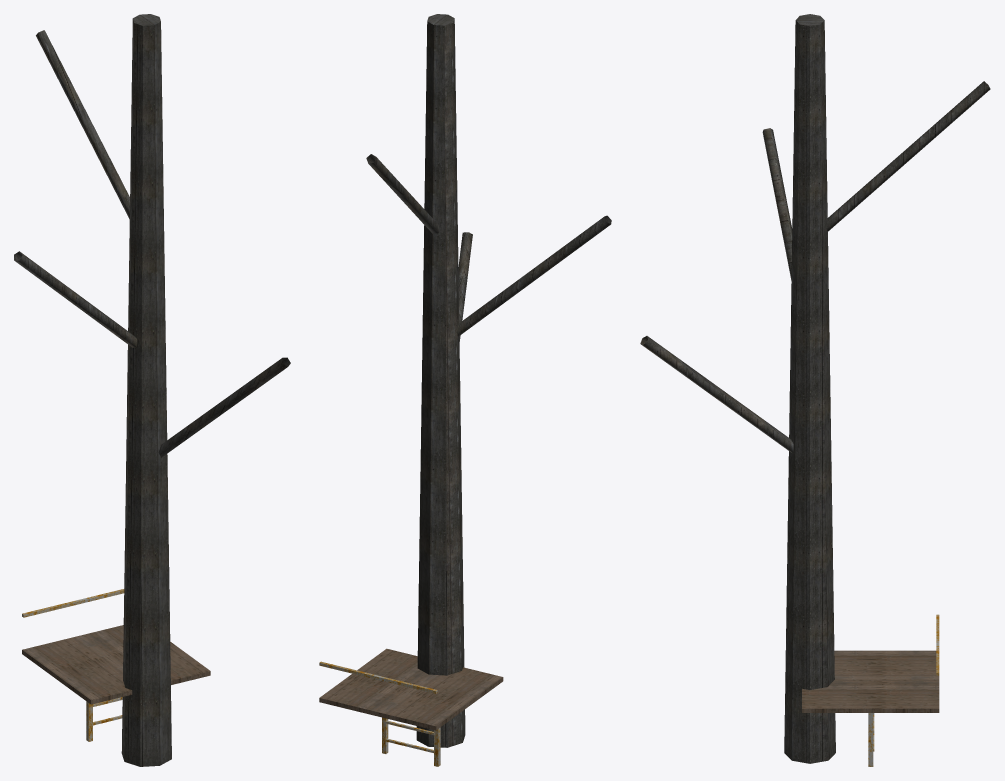
File: tree_stand.glb
3 views of the same model, side by side, from view 1: azimuth 30°, elevation 25°; view 2: azimuth 150°, elevation 25°; view 3: azimuth 270°, elevation 25° (orthographic). The views are drawn at different scales.
Parts seen in each view (by area): view 1: tree_stand; view 2: tree_stand; view 3: tree_stand.
Part boxes in pixels (bbox=[...]): tree_stand: bbox=[14, 14, 290, 766]; tree_stand: bbox=[319, 14, 611, 766]; tree_stand: bbox=[640, 14, 990, 766].
Size of the model in its own units: 3.04 by 10 by 4.33.
3 materials, 3 textured.
